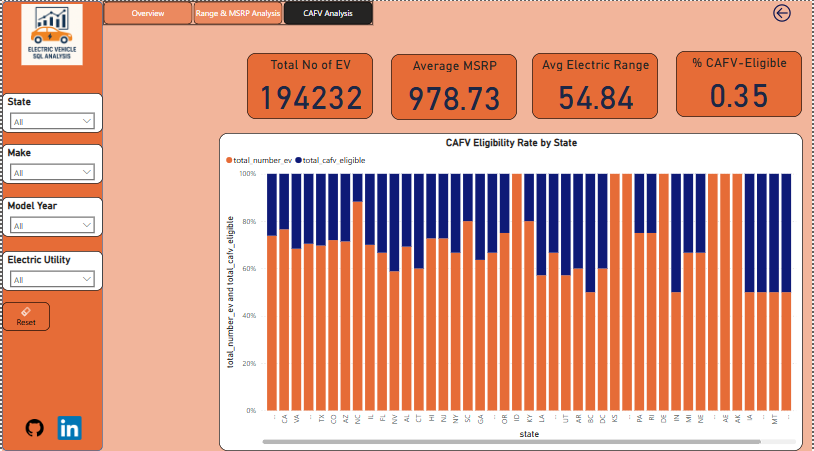

The dashboard page shown, as its layout file describes it:
{"tool":"powerbi","page":{"name":"CAFV Analysis","canvas":[1350,750],"ordinal":2},"visuals":[{"type":"card","title":"Total No of EV","fields":{"Values":["public ev_sales_table.Total Number of EV"]},"box":[408,86,210,110],"z":0},{"type":"shape","box":[0,0,168,750],"z":1000},{"type":"card","title":"Average MSRP","fields":{"Values":["public ev_sales_table.avegrage_msrp"]},"box":[648.3,88.3,210,110],"z":2000},{"type":"card","title":"Avg Electric Range","fields":{"Values":["public ev_sales_table.average_electric_range"]},"box":[884,86,210,110],"z":3000},{"type":"card","title":"% CAFV-Eligible","fields":{"Values":["public ev_sales_table.cafv_%_by_state"]},"box":[1124,84,210,110],"z":4000},{"type":"slicer","title":"State","fields":{"Values":["public ev_sales_table.state"]},"box":[0,154,168,66],"z":5000},{"type":"slicer","title":"Make","fields":{"Values":["public ev_sales_table.make"]},"box":[0,238,168,66],"z":6000},{"type":"slicer","title":"Model Year","fields":{"Values":["public ev_sales_table.model_year"]},"box":[0,326,168,66],"z":7000},{"type":"slicer","title":"Electric Utility","fields":{"Values":["public ev_sales_table.electric_utility"]},"box":[0,416,168,66],"z":8000},{"type":"image","box":[24,0,120,112],"z":9000},{"type":"image","box":[28,686,52,50],"z":10000},{"type":"image","box":[82,686,62,50],"z":11000},{"type":"hundredPercentStackedColumnChart","title":"CAFV Eligibility Rate by State","fields":{"Category":["public ev_sales_table.state"],"Y":["public ev_sales_table.total_number_ev","public ev_sales_table.Total CAFV Eligible"]},"box":[361.7,220,973.3,530],"z":12000},{"type":"actionButton","box":[0,501.7,80,48.3],"z":13000},{"type":"actionButton","box":[1280,0,53.3,40],"z":14000},{"type":"pageNavigator","box":[168.3,0,450,40],"z":15000}]}

Visuals, with their boxes in screenshot pixels (x1, y1, x2, y2), scaled from the page's 1350x750 canvas onto the 814x451 screenshot:
"Total No of EV" card: (x1=246, y1=52, x2=373, y2=118)
shape: (x1=0, y1=0, x2=101, y2=450)
"Average MSRP" card: (x1=391, y1=53, x2=518, y2=119)
"Avg Electric Range" card: (x1=533, y1=52, x2=660, y2=118)
"% CAFV-Eligible" card: (x1=678, y1=51, x2=804, y2=117)
"State" slicer: (x1=0, y1=93, x2=101, y2=132)
"Make" slicer: (x1=0, y1=143, x2=101, y2=183)
"Model Year" slicer: (x1=0, y1=196, x2=101, y2=236)
"Electric Utility" slicer: (x1=0, y1=250, x2=101, y2=290)
image: (x1=14, y1=0, x2=87, y2=67)
image: (x1=17, y1=413, x2=48, y2=443)
image: (x1=49, y1=413, x2=87, y2=443)
"CAFV Eligibility Rate by State" hundredPercentStackedColumnChart: (x1=218, y1=132, x2=805, y2=450)
actionButton: (x1=0, y1=302, x2=48, y2=331)
actionButton: (x1=772, y1=0, x2=804, y2=24)
pageNavigator: (x1=101, y1=0, x2=373, y2=24)
